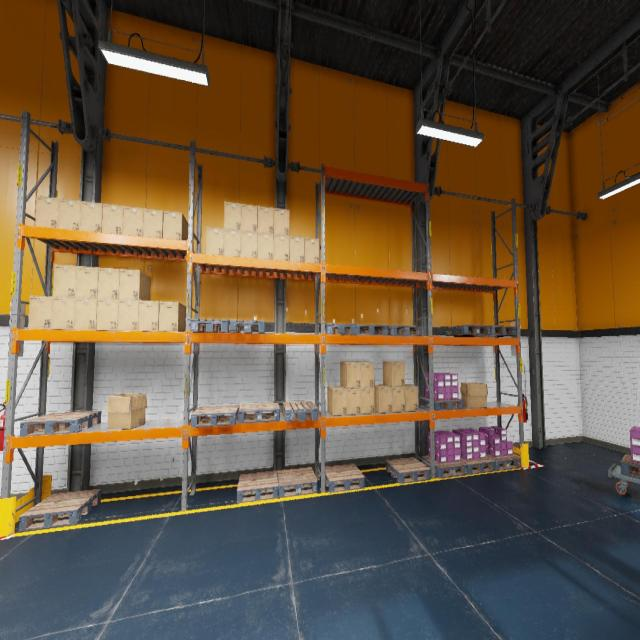box: (105, 394, 147, 429), (118, 269, 150, 300), (158, 301, 186, 332), (28, 296, 53, 329), (53, 264, 76, 298), (51, 297, 75, 329), (35, 196, 59, 228), (163, 210, 188, 240), (74, 298, 97, 330), (75, 266, 98, 298), (58, 198, 81, 230), (138, 300, 160, 332), (96, 299, 118, 330), (80, 201, 102, 232), (460, 383, 488, 407), (98, 268, 119, 300), (118, 300, 139, 331), (102, 203, 123, 234), (327, 386, 347, 416), (143, 208, 163, 238), (123, 206, 143, 236), (384, 384, 405, 412), (382, 361, 404, 386), (340, 362, 360, 388), (374, 385, 392, 413), (206, 227, 224, 255), (241, 204, 258, 232), (224, 202, 241, 230), (223, 229, 240, 257), (357, 362, 374, 388), (258, 206, 274, 233), (241, 231, 257, 258), (258, 233, 274, 259), (274, 208, 289, 235), (274, 234, 289, 260), (347, 388, 361, 415), (290, 236, 304, 262), (405, 384, 418, 411), (305, 238, 319, 263), (361, 388, 374, 414)
pallets: (19, 489, 101, 531), (20, 411, 101, 436), (237, 471, 278, 503), (277, 467, 317, 498), (325, 463, 365, 492), (386, 457, 430, 483), (191, 405, 239, 427), (422, 456, 467, 478), (239, 403, 279, 423), (283, 401, 318, 422), (459, 457, 495, 474), (486, 454, 521, 471), (420, 397, 464, 410), (190, 318, 230, 332), (446, 324, 490, 336), (472, 326, 516, 337), (230, 319, 264, 333), (620, 455, 640, 478), (320, 323, 356, 335), (388, 325, 422, 336), (356, 325, 388, 335)
